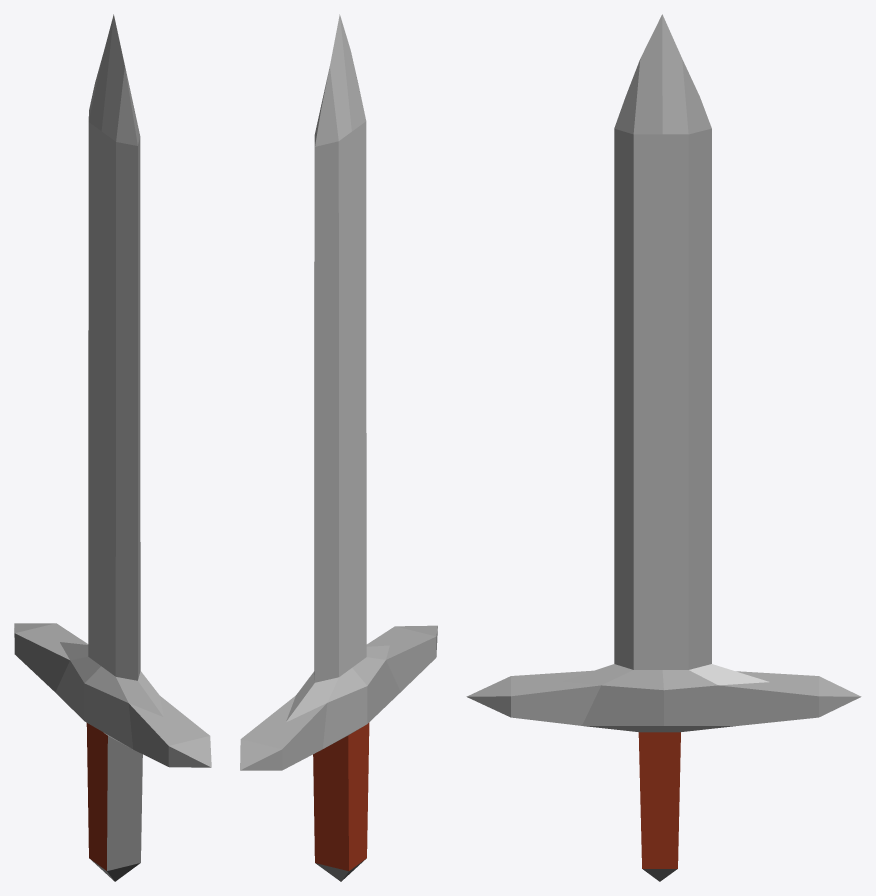
Rendered from SteelSword.obj.
The picture shows the model from 3 angles, left to right: view 1: azimuth 30°, elevation 25°; view 2: azimuth 150°, elevation 25°; view 3: azimuth 270°, elevation 25°; orthographic projection.
Visible parts, largest first — view 1: Cube; view 2: Cube; view 3: Cube.
Part boxes in pixels (x1=…): Cube: x1=14, y1=14, x2=211, y2=881; Cube: x1=240, y1=14, x2=437, y2=881; Cube: x1=466, y1=14, x2=861, y2=881.
Bounding box in the file's own units: 0.0916 × 1.41 × 0.5821.
